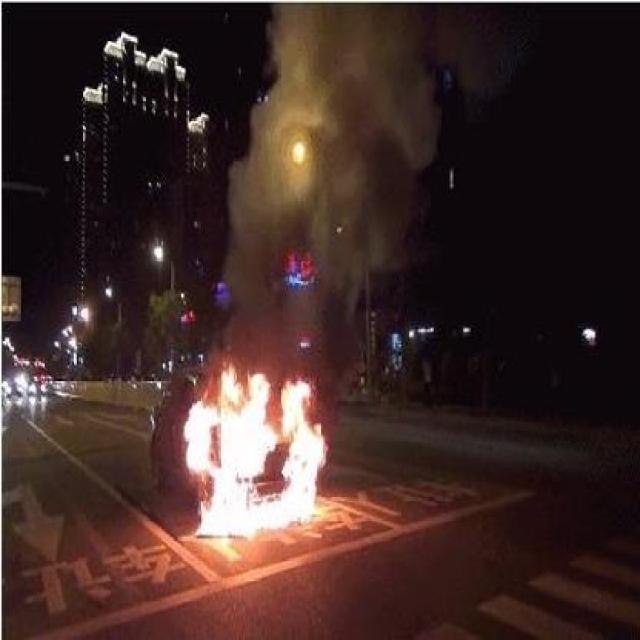Smoke: (244, 2, 452, 348), (184, 354, 326, 545)
